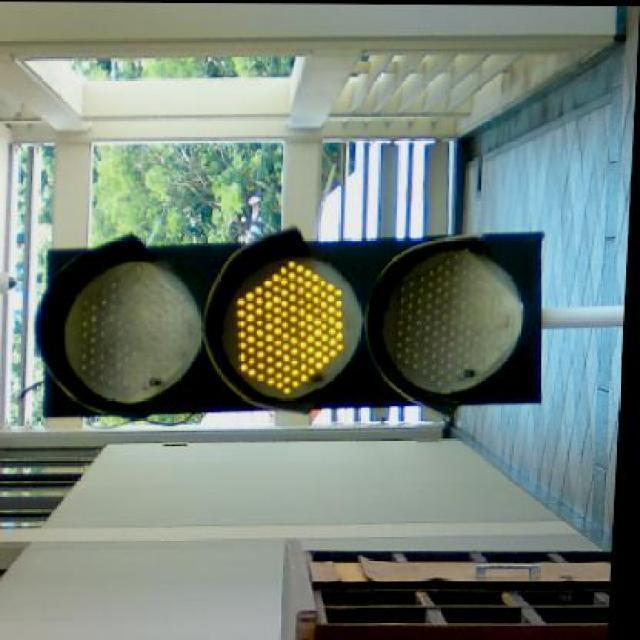yellow_light: (37, 230, 540, 417)
